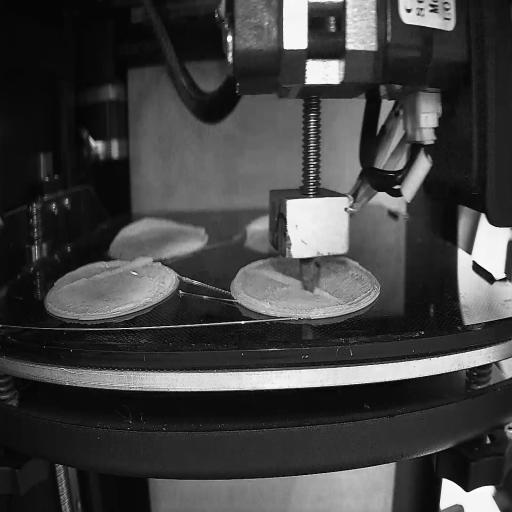over_extrusion: (60, 252, 154, 293), (112, 209, 207, 245), (248, 264, 300, 286), (245, 210, 270, 234), (316, 286, 345, 301)
